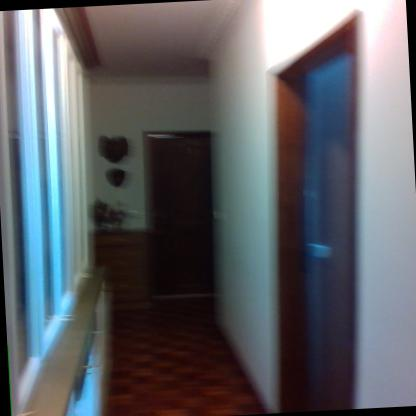closed: (138, 120, 232, 311)
